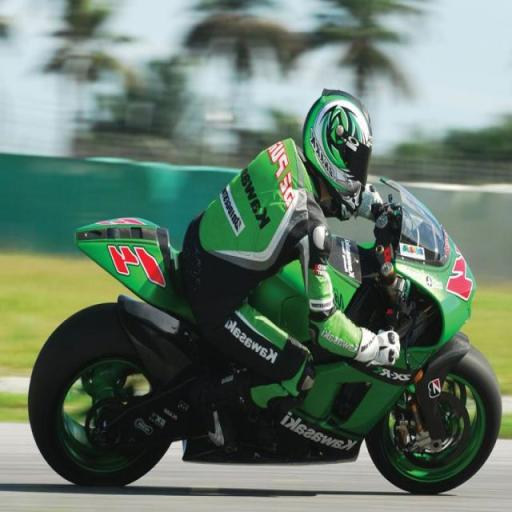Helmet: (304, 90, 371, 212)
Motor: (50, 201, 502, 498)
